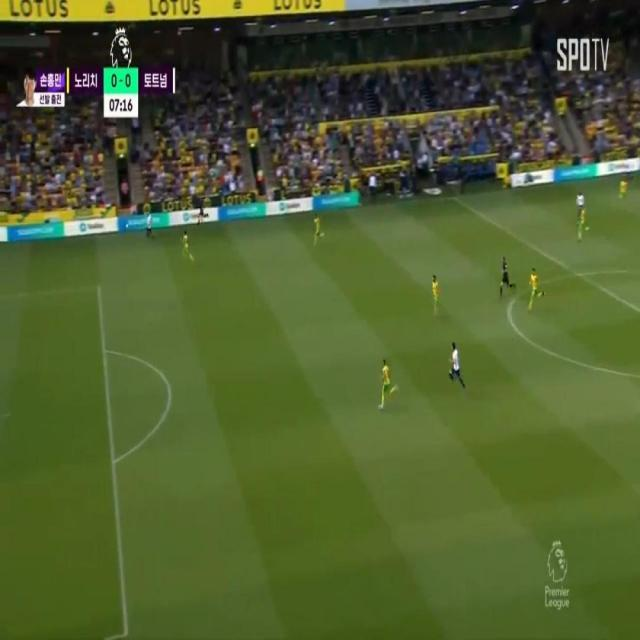player: (447, 333, 463, 389), (381, 358, 393, 410), (431, 275, 442, 314), (530, 268, 540, 307), (576, 182, 584, 223), (313, 213, 322, 243), (182, 229, 190, 261), (617, 177, 627, 201), (146, 211, 152, 243)
referee: (499, 252, 511, 298)
